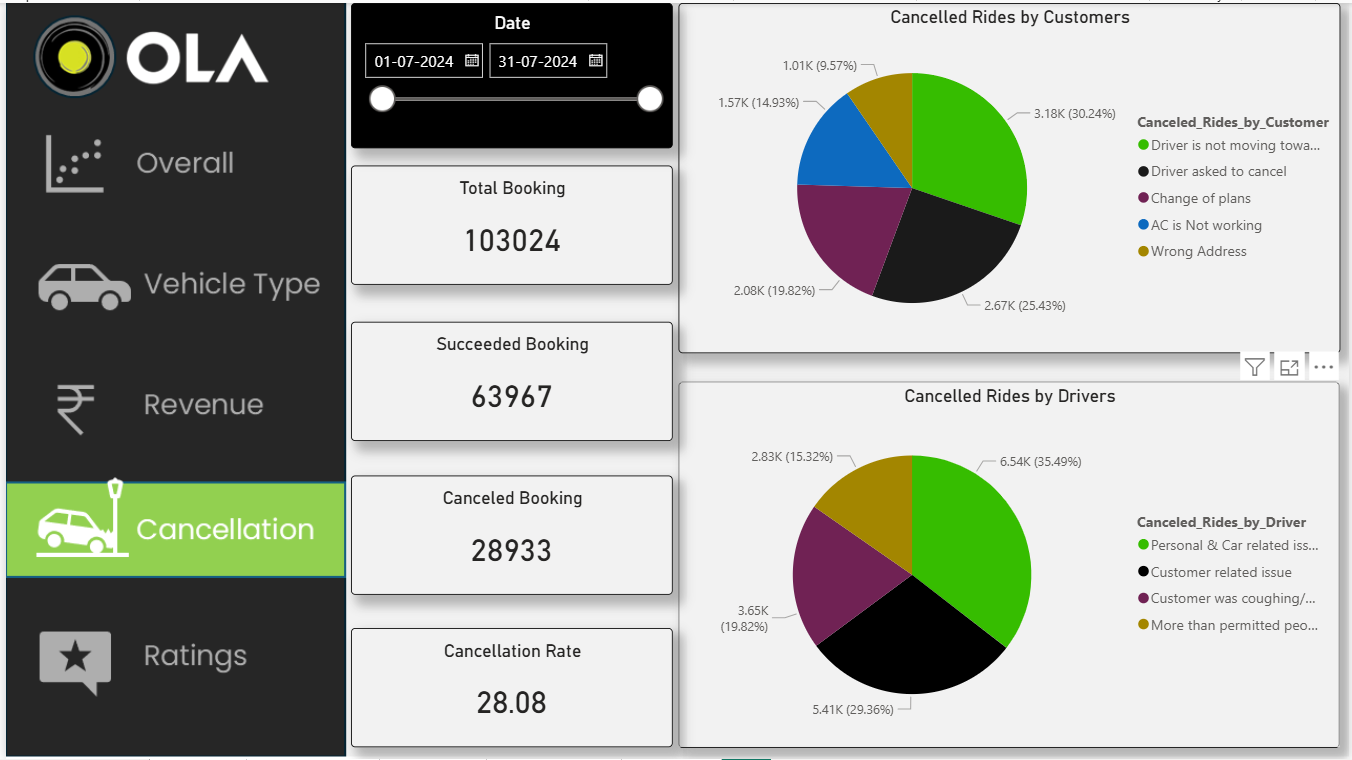

What the dashboard file says about the page in this screenshot:
{"tool":"powerbi","page":{"name":"Cancellation","canvas":[1280,720],"ordinal":3},"visuals":[{"type":"actionButton","box":[0,450,323.8,96.4],"z":0},{"type":"pieChart","title":"Cancelled Rides by Customers","fields":{"Category":["July.Canceled_Rides_by_Customer"],"Y":["CountNonNull(July.Canceled_Rides_by_Customer)"]},"box":[640,0,630,333.3],"z":1000},{"type":"pieChart","title":"Cancelled Rides by Drivers","fields":{"Category":["July.Canceled_Rides_by_Driver"],"Y":["CountNonNull(July.Canceled_Rides_by_Driver)"]},"box":[640.1,360.2,629.9,348.5],"z":2000},{"type":"slicer","title":"Date","fields":{"Values":["July.Date"]},"box":[328.1,0,306.2,138.5],"z":3000},{"type":"card","title":"Total Booking","fields":{"Values":["CountNonNull(July.Booking_ID)"]},"box":[328.8,155,306.2,113.8],"z":4000},{"type":"card","title":"Succeeded Booking","fields":{"Values":["CountNonNull(July.Booking_ID)"]},"box":[328.8,303.8,306.2,113.8],"z":5000},{"type":"card","title":"Canceled Booking","fields":{"Values":["CountNonNull(July.Booking_ID)"]},"box":[328.8,450,306.2,113.8],"z":6000},{"type":"card","title":"Cancellation Rate","fields":{"Values":["July.CanceledPercentage"]},"box":[328.8,595,306.2,113.8],"z":7001}]}

Visuals, with their boxes in screenshot pixels (x1, y1, x2, y2), scaled from the page's 1280x720 canvas onto the 1352x760 screenshot:
actionButton: 0,475,342,577
"Cancelled Rides by Customers" pieChart: 676,0,1341,352
"Cancelled Rides by Drivers" pieChart: 676,380,1341,748
"Date" slicer: 347,0,670,146
"Total Booking" card: 347,164,671,284
"Succeeded Booking" card: 347,321,671,441
"Canceled Booking" card: 347,475,671,595
"Cancellation Rate" card: 347,628,671,748
